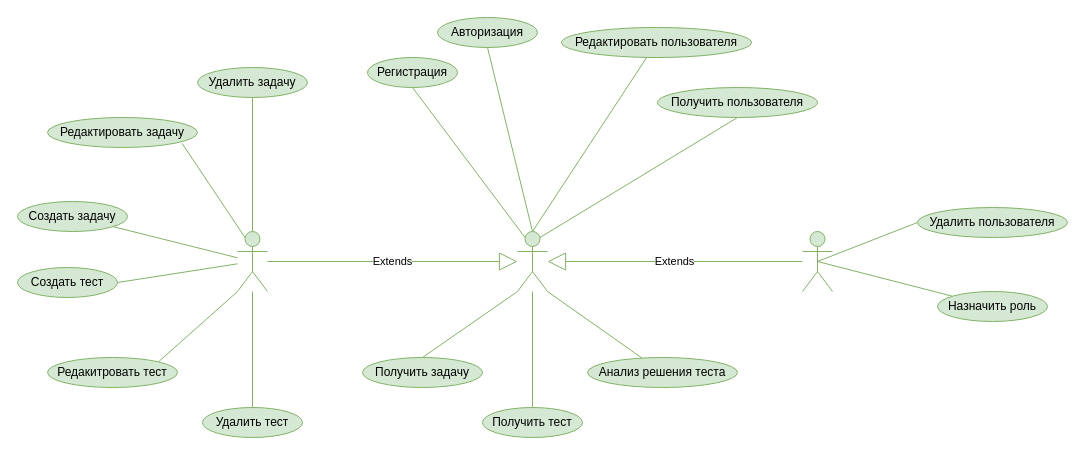
The diagram is 1085 pixels wide and 455 high, and some of its shapes have lost their labels. Each missing label, with the centre of its shape:
"Администратор" goes at point (817, 261).
"Пользователь" goes at point (532, 261).
"Преподаватель" goes at point (252, 261).
